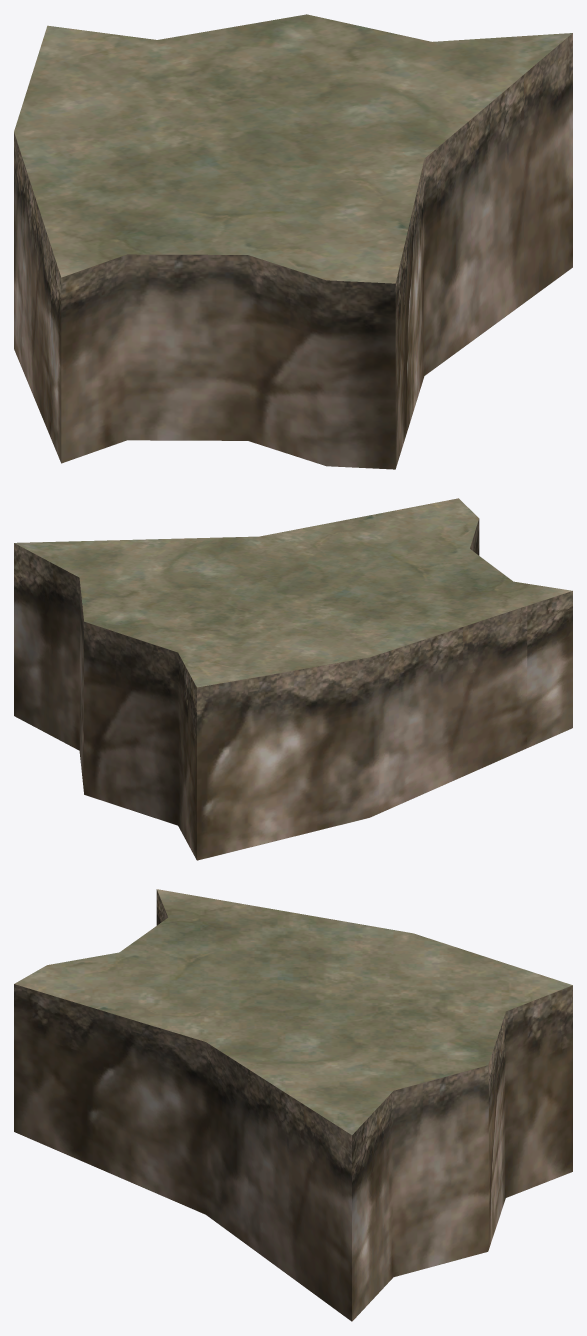
Rendered from OVERHILL_A_01_ROCK_FALL_10.fbx.
3 views of the same model, one above another, from view 1: azimuth 30°, elevation 25°; view 2: azimuth 150°, elevation 25°; view 3: azimuth 270°, elevation 25° (orthographic). The views are drawn at different scales.
Visible parts, largest first — view 1: OVERHILL_A_01_ROCK_FALL_10; view 2: OVERHILL_A_01_ROCK_FALL_10; view 3: OVERHILL_A_01_ROCK_FALL_10.
Boxes of the visible parts, left/top/right/bottom form: OVERHILL_A_01_ROCK_FALL_10: left=14, top=14, right=572, bottom=469; OVERHILL_A_01_ROCK_FALL_10: left=14, top=498, right=572, bottom=860; OVERHILL_A_01_ROCK_FALL_10: left=14, top=889, right=572, bottom=1321.
Size of the model in its own units: 23598 by 8335 by 22638.
2 materials, 2 textured.
